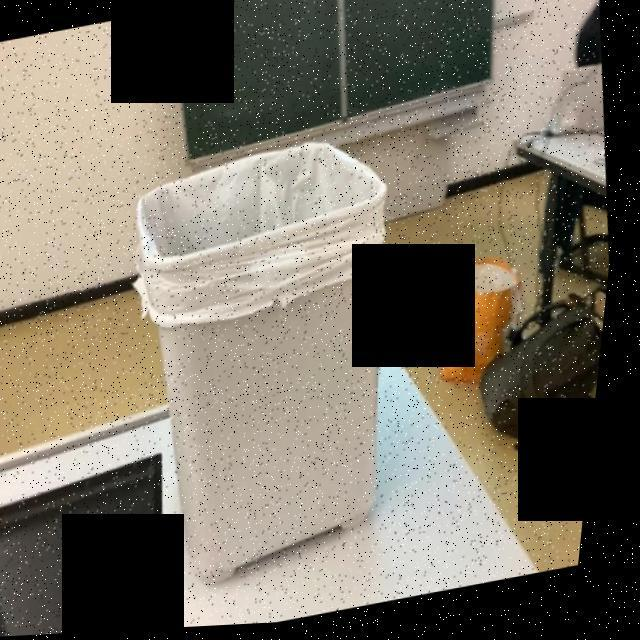bin: (52, 52, 485, 618)
